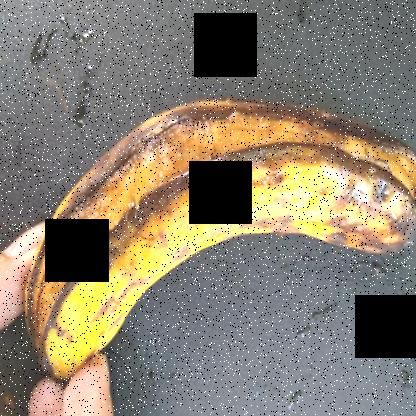rotten: (17, 73, 416, 384)
